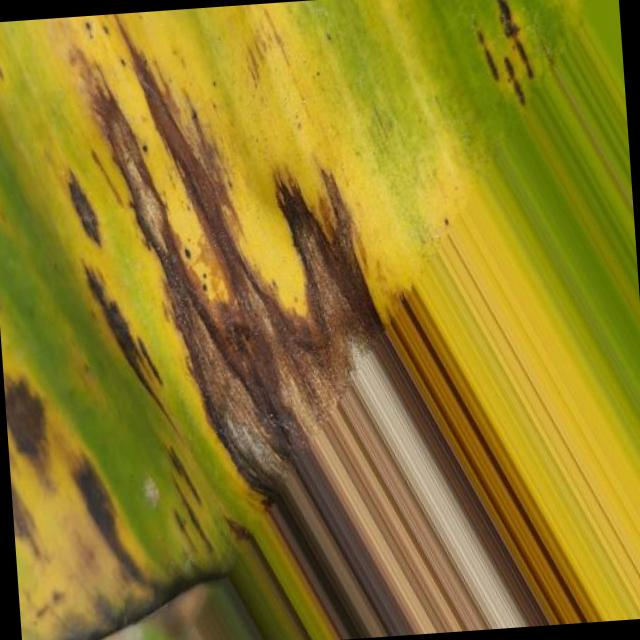Banana_Yellow_Sigatoka: (0, 1, 576, 493)
